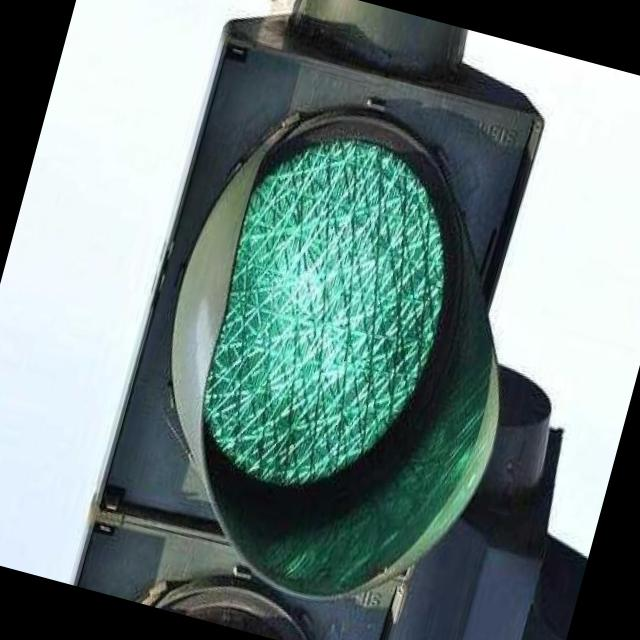green-lights: (85, 29, 577, 640)
